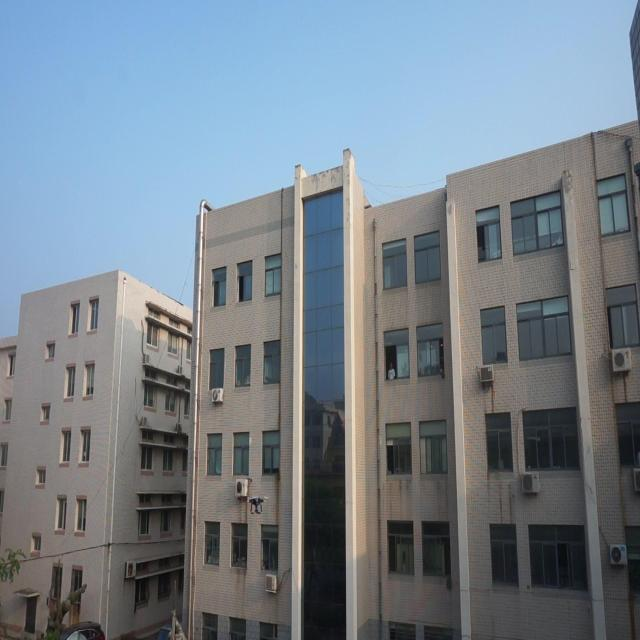drone: (246, 494, 266, 516)
